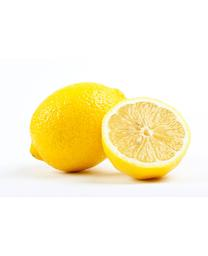lemon: (28, 82, 131, 171), (99, 97, 193, 180)
